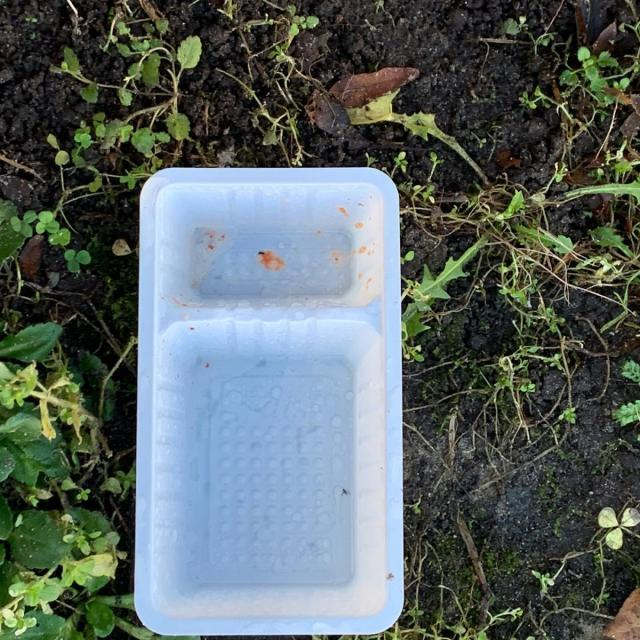Plastic: (128, 161, 408, 639)
